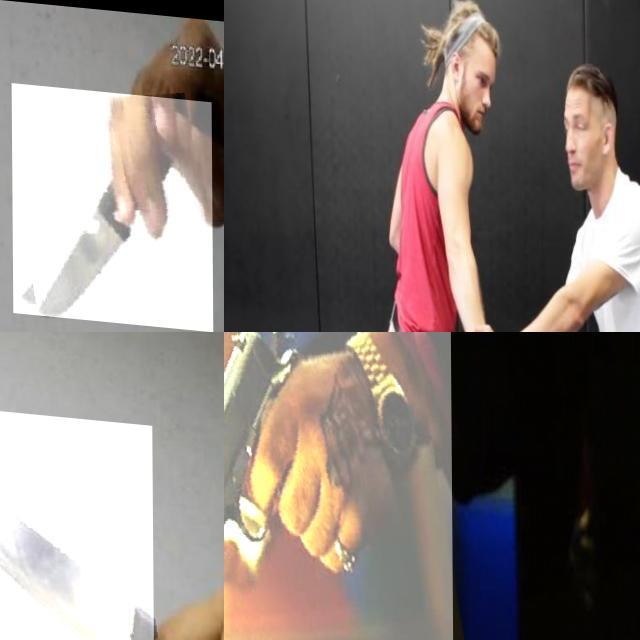-: (11, 76, 212, 322), (0, 399, 153, 640)
gun-knife-thesis - v11 Yolov5 augmented: (224, 332, 452, 640)
